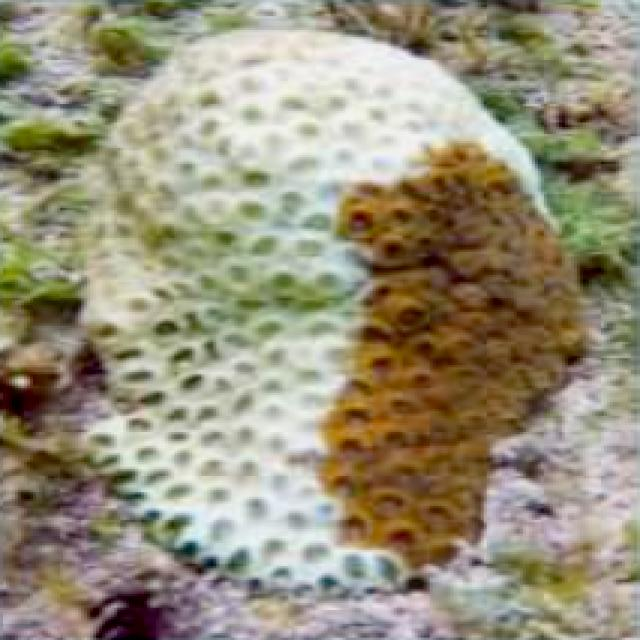Coral: (72, 28, 592, 600)
